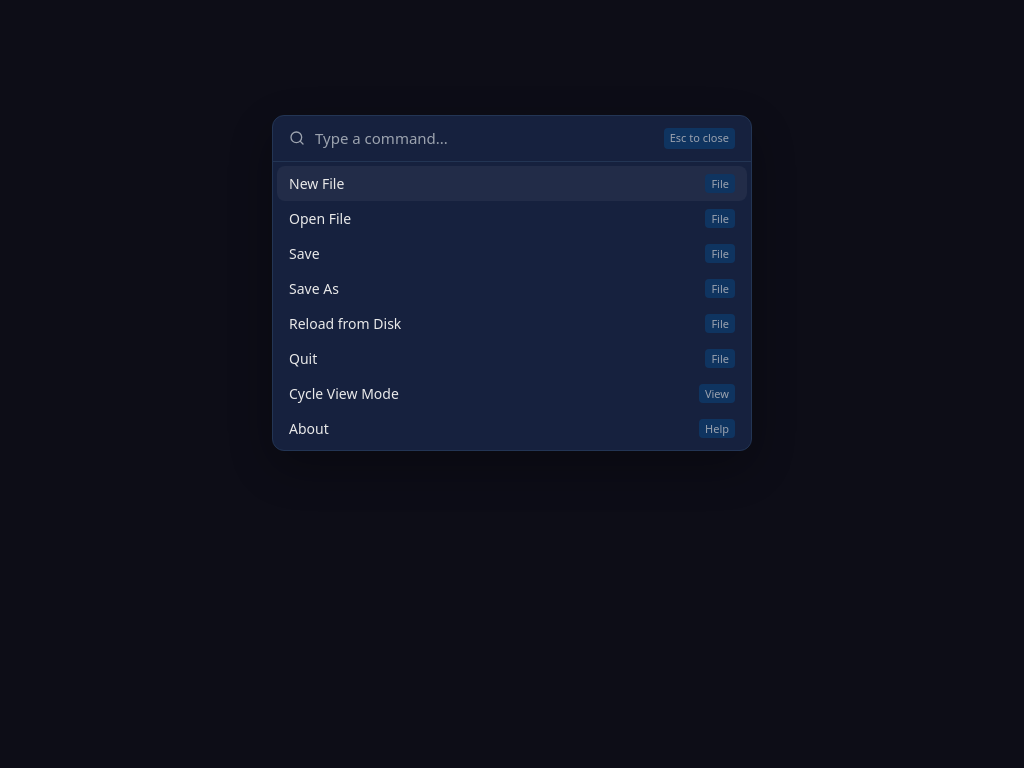
Test case: CommandPalette › shows 'No matching commands' for non-matching query
The width and height of the screenshot is (1024, 768).
Step 1. Type "zzzznotacommand" into the field with placeholder "Type a command..." → (484, 138), box [315,128,654,148]
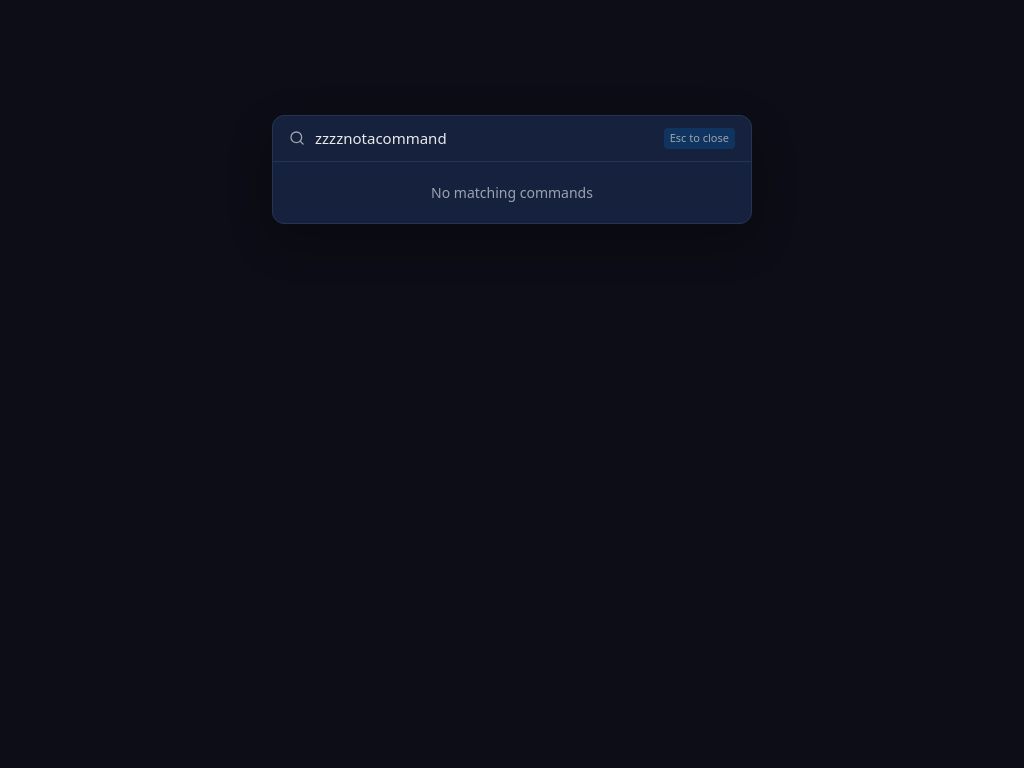
Expected: the text "No matching commands" is shown, [431,183,593,202]
